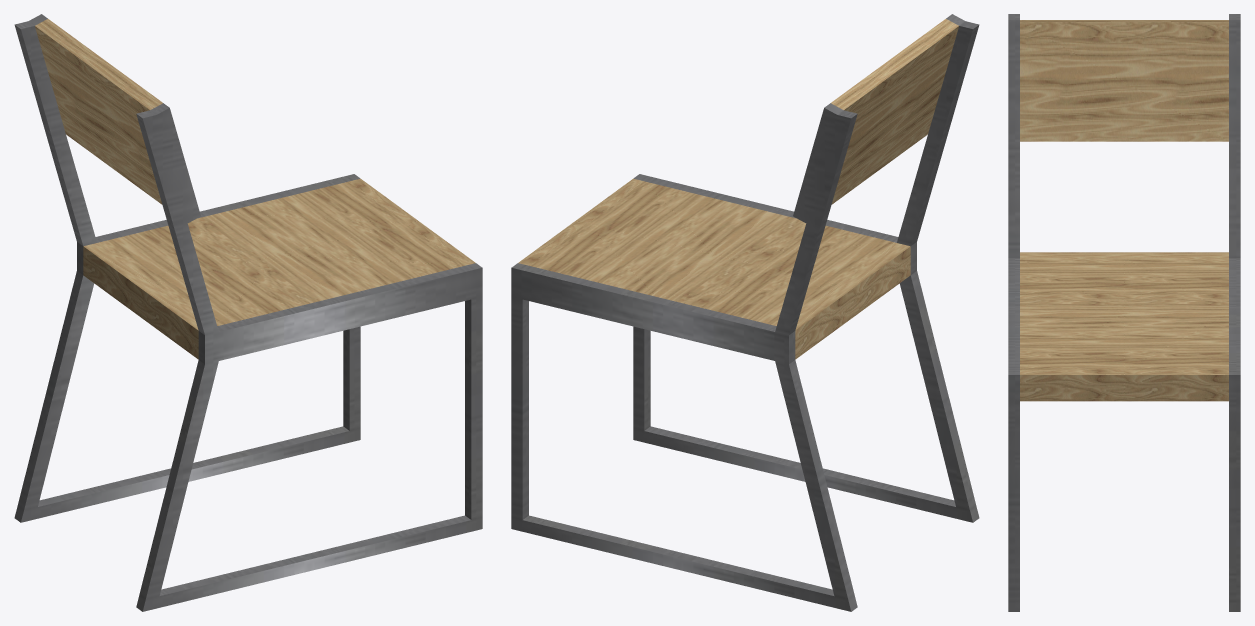
Rendered from Chair001.FBX.
The picture shows the model from 3 angles, left to right: view 1: azimuth 30°, elevation 25°; view 2: azimuth 150°, elevation 25°; view 3: azimuth 270°, elevation 25°; orthographic projection. The views are drawn at different scales.
Parts seen in each view (by area): view 1: Chair001; view 2: Chair001; view 3: Chair001.
Boxes of the visible parts, x1=… form: Chair001: x1=14, y1=14, x2=482, y2=611; Chair001: x1=511, y1=14, x2=979, y2=611; Chair001: x1=1008, y1=14, x2=1240, y2=611.
Size of the model in its own units: 72.34 by 101 by 47.24.
